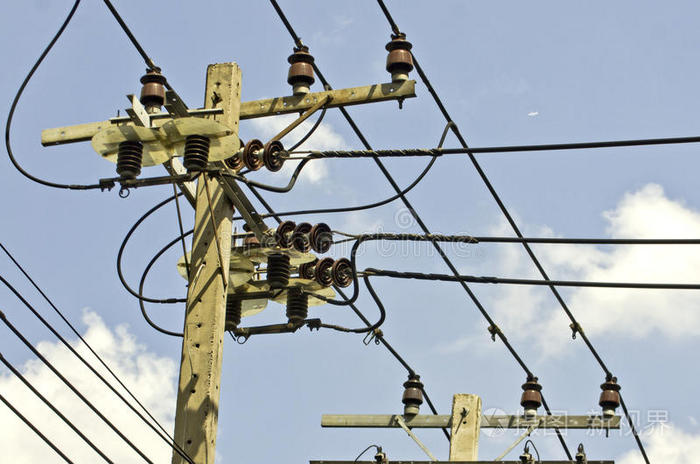insulator: (273, 217, 333, 251), (241, 138, 283, 172), (315, 257, 352, 289)
